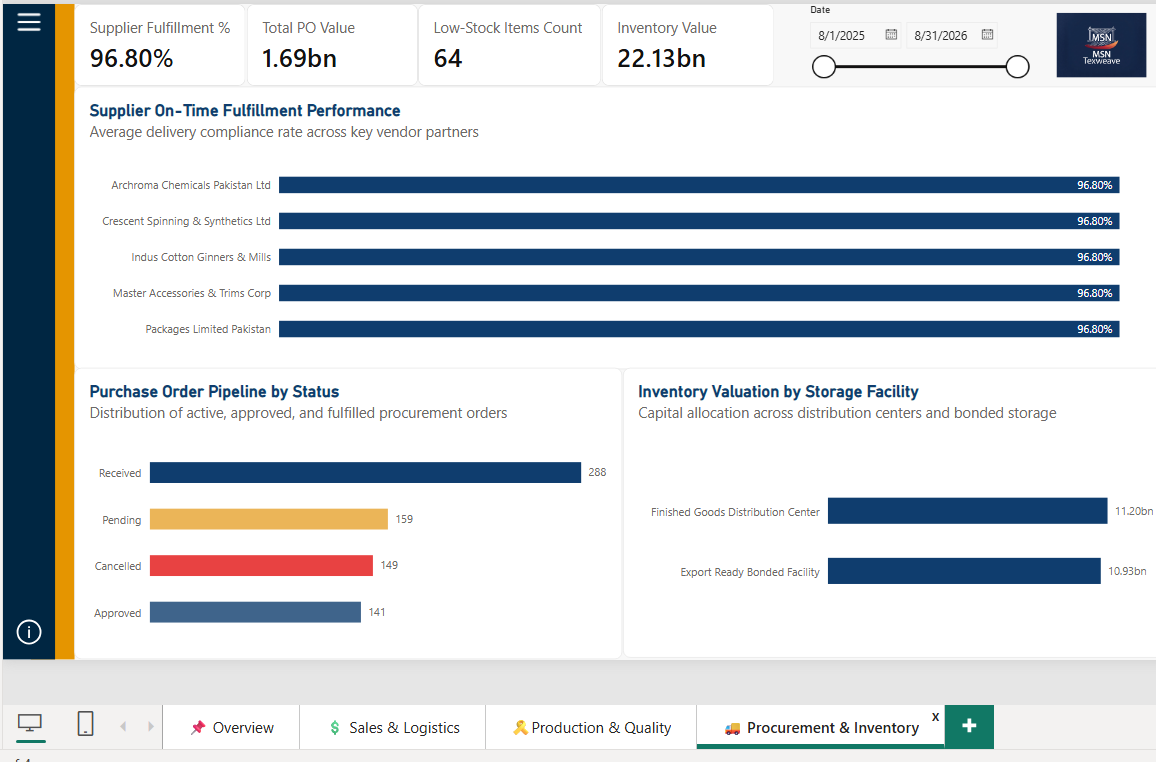

This screenshot's page, from the dashboard's own definition file:
{"tool":"powerbi","page":{"name":"🚚 Procurement & Inventory","canvas":[1280,720],"ordinal":3},"visuals":[{"type":"group","id":"g1","title":"MenuBar","box":[0,0,78.6,720],"z":0},{"type":"shape","title":"Flyout BG","box":[30,0,48.6,720],"z":0,"group":"g1"},{"type":"shape","title":"Menu BG","box":[0,0,57.5,720],"z":1000,"group":"g1"},{"type":"image","box":[1147.7,9.2,117.7,71.5],"z":2000},{"type":"actionButton","title":"Report","box":[0.6,670,56.5,40],"z":2000,"group":"g1"},{"type":"actionButton","title":"Menu Button","box":[0,0,57.1,40],"z":3000,"group":"g1"},{"type":"cardVisual","fields":{"Data":["Measure.Supplier Fulfillment %"]},"box":[78.5,0,188.5,90],"z":3000},{"type":"cardVisual","fields":{"Data":["Measure.Total PO Value"]},"box":[266.9,0,188.5,90],"z":4000},{"type":"cardVisual","fields":{"Data":["Measure.Inventory Value"]},"box":[657.3,0,189.2,90],"z":5000},{"type":"cardVisual","fields":{"Data":["Measure.Low-Stock Items Count"]},"box":[455.6,0,201.7,90.6],"z":6000},{"type":"clusteredBarChart","title":"Supplier On-Time Fulfillment Performance","fields":{"Category":["Suppliers.SupplierName"],"Y":["Avg(vw_ProcurementSupplierFulfillment.FulfillmentRatePct)"]},"box":[78.3,90,1201.7,310],"z":7000},{"type":"clusteredBarChart","title":"Purchase Order Pipeline by Status","fields":{"Category":["vw_ProcurementSupplierFulfillment.POStatus"],"Y":["CountNonNull(vw_ProcurementSupplierFulfillment.POID)"]},"box":[78.3,400,601.7,320],"z":8000},{"type":"clusteredBarChart","title":"Inventory Valuation by Storage Facility","fields":{"Category":["Warehouses.WarehouseName"],"Y":["Measure.Inventory Value"]},"box":[680,400,600,318.3],"z":9000},{"type":"slicer","fields":{"Values":["DateTable.Date"]},"box":[878.5,0,252,90],"z":10000}]}

Visuals, with their boxes on the page's 1280x720 design canvas (x1, y1, x2, y2). These are canvas units, not pixel positions in the 1156x762 screenshot, which may show the page scaled, cropped or inside an application window:
"MenuBar" group: box(0, 0, 79, 720)
"Flyout BG" shape: box(30, 0, 79, 720)
"Menu BG" shape: box(0, 0, 58, 720)
image: box(1148, 9, 1265, 81)
"Report" actionButton: box(1, 670, 57, 710)
"Menu Button" actionButton: box(0, 0, 57, 40)
cardVisual - Measure.Supplier Fulfillment %: box(78, 0, 267, 90)
cardVisual - Measure.Total PO Value: box(267, 0, 455, 90)
cardVisual - Measure.Inventory Value: box(657, 0, 846, 90)
cardVisual - Measure.Low-Stock Items Count: box(456, 0, 657, 91)
"Supplier On-Time Fulfillment Performance" clusteredBarChart: box(78, 90, 1280, 400)
"Purchase Order Pipeline by Status" clusteredBarChart: box(78, 400, 680, 720)
"Inventory Valuation by Storage Facility" clusteredBarChart: box(680, 400, 1280, 718)
slicer - DateTable.Date: box(878, 0, 1130, 90)
